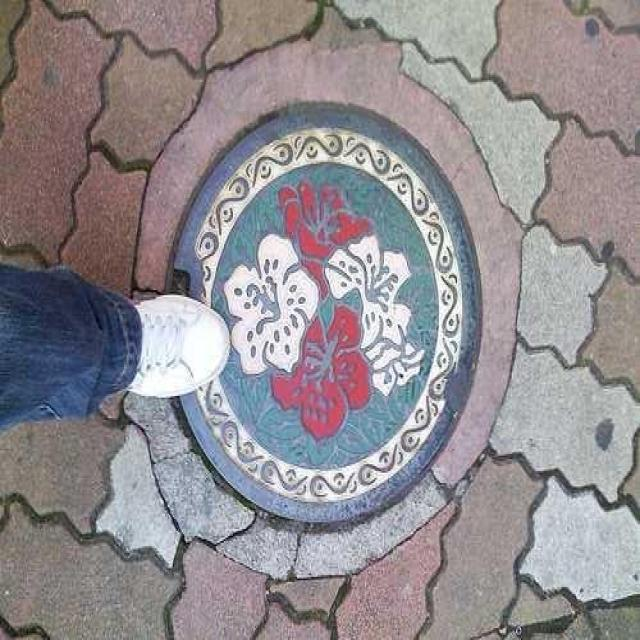manhole: (174, 103, 480, 521)
